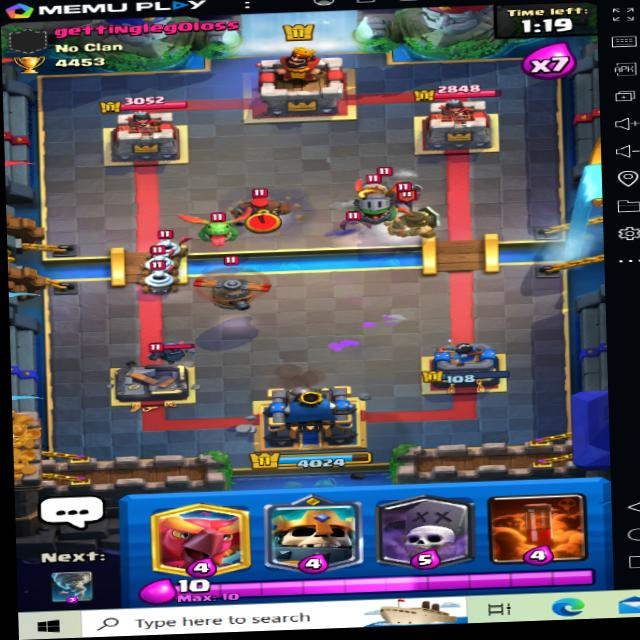baby-dragon: (185, 211, 255, 247)
bats: (333, 210, 378, 232)
dark-prince: (381, 191, 440, 243)
flying-machine: (187, 253, 286, 316)
hunter: (227, 183, 291, 225)
inferno-dragon: (346, 169, 400, 224)
mini-pekka: (144, 333, 198, 365)
zappie: (141, 261, 179, 292), (143, 241, 180, 272), (147, 232, 189, 259)
